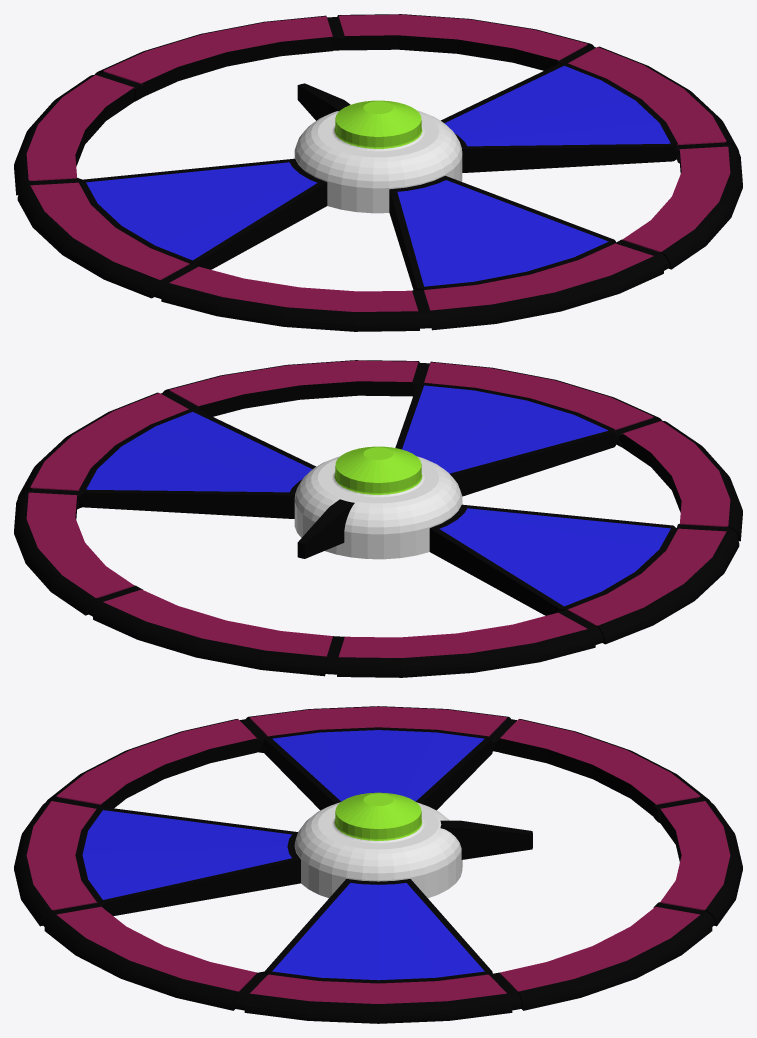
File: space ship.fbx
3 views of the same model, one above another, from view 1: azimuth 30°, elevation 25°; view 2: azimuth 150°, elevation 25°; view 3: azimuth 270°, elevation 25° (orthographic).
Parts seen in each view (by area): view 1: Circle; view 2: Circle; view 3: Circle.
Boxes of the visible parts, <box> form: Circle: <box>14,14,742,331</box>; Circle: <box>14,360,742,677</box>; Circle: <box>14,706,742,1023</box>.
Bounding box in the file's own units: 796 × 84.32 × 796.
